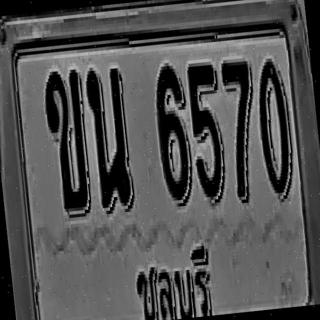A02: (42, 67, 94, 217)
A25: (84, 65, 135, 212)
N00: (253, 55, 296, 198)
N05: (185, 61, 229, 204)
N06: (151, 62, 194, 205)
N07: (219, 58, 263, 204)
P13: (128, 242, 218, 320)
